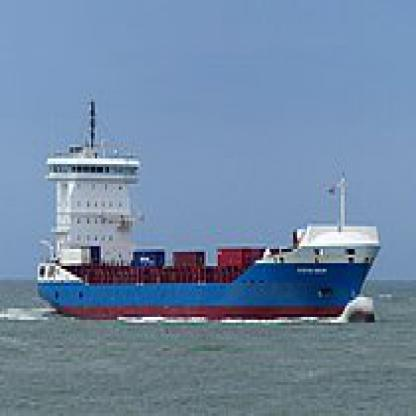Container Ship: (34, 97, 382, 324)
